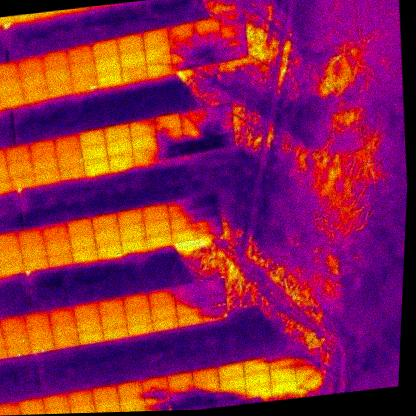Diode: (71, 74, 98, 93)
Hotspot: (50, 319, 78, 338), (57, 148, 85, 166), (27, 337, 56, 354), (202, 304, 229, 322), (1, 329, 29, 345), (58, 163, 86, 179), (4, 342, 32, 358), (201, 293, 227, 309), (146, 400, 172, 411)
Normal: (18, 56, 45, 77), (93, 37, 120, 58), (104, 138, 135, 156), (65, 219, 94, 238), (28, 138, 58, 156), (23, 84, 50, 104), (42, 49, 69, 69), (104, 123, 132, 142), (155, 112, 183, 131), (168, 22, 196, 41), (130, 133, 159, 151), (3, 143, 32, 161), (121, 63, 148, 82), (144, 43, 171, 62), (144, 27, 171, 46), (147, 286, 177, 303), (17, 227, 45, 245), (116, 209, 144, 227), (53, 134, 81, 152), (0, 314, 26, 333), (47, 79, 73, 98), (97, 67, 123, 86), (194, 18, 220, 37), (74, 314, 103, 331), (120, 236, 149, 253), (18, 242, 47, 259), (77, 130, 106, 147), (48, 305, 75, 323), (71, 246, 98, 264), (34, 167, 61, 185), (84, 158, 111, 176), (69, 60, 96, 78), (67, 45, 94, 63), (117, 33, 144, 51), (176, 309, 204, 326), (26, 324, 54, 341), (123, 305, 151, 322), (24, 311, 52, 328), (97, 297, 125, 314), (46, 250, 74, 267), (92, 215, 120, 232), (6, 158, 34, 175), (0, 89, 25, 108), (42, 224, 68, 242), (10, 172, 36, 190), (95, 55, 121, 73), (0, 60, 20, 83), (152, 314, 179, 331), (149, 301, 176, 318), (245, 381, 272, 398), (219, 374, 246, 391), (108, 152, 135, 169), (133, 149, 160, 166), (82, 144, 109, 161), (117, 380, 144, 397), (119, 49, 146, 66), (53, 334, 81, 350), (99, 310, 127, 326), (145, 231, 173, 247), (44, 239, 72, 255), (118, 224, 146, 240), (144, 218, 172, 234), (31, 154, 59, 170), (142, 375, 170, 391), (167, 371, 195, 387), (102, 323, 128, 340), (271, 377, 297, 394), (19, 397, 45, 414), (93, 385, 119, 402), (68, 234, 97, 249), (126, 319, 153, 335), (122, 292, 149, 308), (0, 258, 24, 276), (96, 241, 123, 257), (143, 204, 170, 220), (245, 370, 272, 386), (67, 389, 94, 405), (193, 367, 220, 383), (78, 327, 103, 344), (46, 66, 71, 83), (72, 302, 100, 317), (93, 229, 121, 244), (218, 362, 246, 377), (43, 394, 69, 410), (21, 72, 47, 88), (0, 76, 23, 94), (119, 393, 146, 408), (172, 227, 199, 242), (94, 399, 121, 413), (0, 244, 23, 260), (22, 257, 50, 270), (0, 231, 19, 247), (0, 401, 21, 415), (70, 402, 95, 413), (46, 405, 71, 414), (21, 411, 47, 415)
Shadow: (219, 13, 247, 33), (170, 52, 199, 71), (128, 119, 157, 137), (206, 104, 235, 122), (158, 142, 185, 161), (146, 58, 173, 77), (221, 44, 248, 63), (199, 279, 227, 297), (181, 123, 209, 141), (220, 29, 248, 47), (168, 199, 197, 216), (170, 38, 199, 55), (198, 48, 225, 66), (195, 33, 222, 51), (173, 282, 201, 299), (295, 372, 323, 389), (169, 213, 197, 230), (182, 138, 210, 155), (155, 128, 183, 145), (207, 119, 235, 136), (180, 109, 208, 126), (175, 296, 202, 313), (144, 388, 171, 405), (195, 209, 222, 226), (194, 194, 221, 211), (209, 133, 236, 150), (168, 384, 196, 400), (242, 356, 270, 372), (269, 351, 297, 367), (195, 391, 222, 407), (220, 387, 247, 403), (194, 379, 221, 395), (270, 364, 297, 380), (295, 360, 322, 376), (294, 347, 321, 363), (196, 224, 223, 238), (170, 397, 197, 410)
